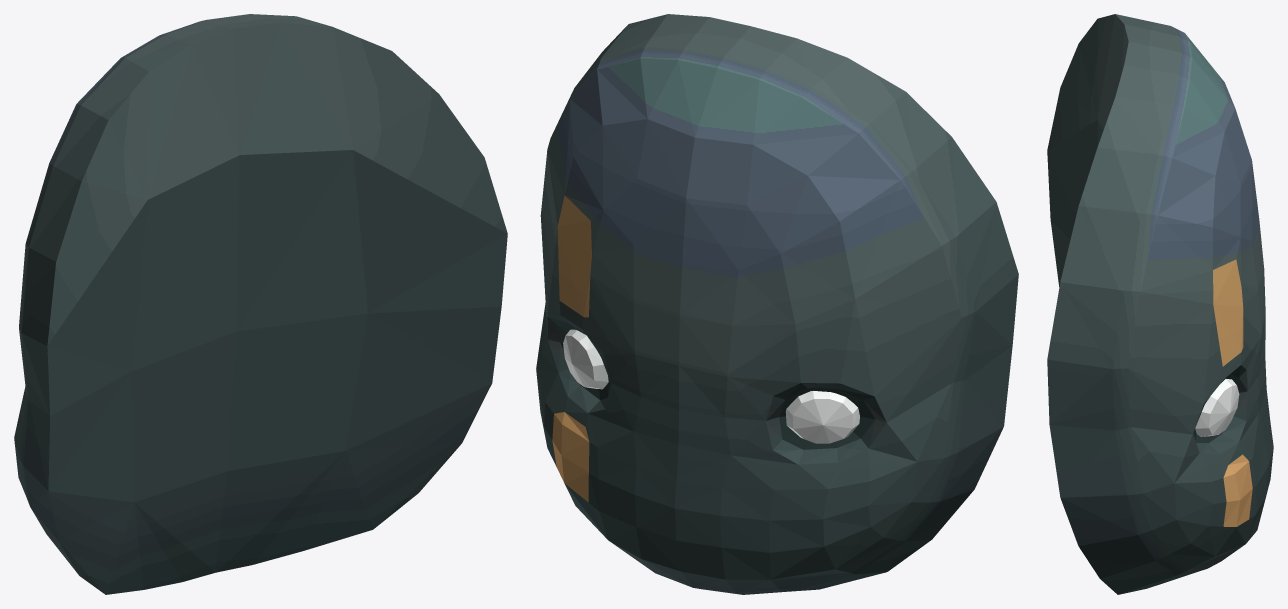
Rendered from CharSkyKid_Mask_AP10MaskD_01.glb.
3 views of the same model, side by side, from view 1: azimuth 30°, elevation 25°; view 2: azimuth 150°, elevation 25°; view 3: azimuth 270°, elevation 25° (orthographic). The views are drawn at different scales.
Parts seen in each view (by area): view 1: CharSkyKid_Mask_AP10MaskD_01; view 2: CharSkyKid_Mask_AP10MaskD_01; view 3: CharSkyKid_Mask_AP10MaskD_01.
Boxes of the visible parts, bbox=[...] form: CharSkyKid_Mask_AP10MaskD_01: bbox=[14, 14, 507, 594]; CharSkyKid_Mask_AP10MaskD_01: bbox=[536, 14, 1018, 594]; CharSkyKid_Mask_AP10MaskD_01: bbox=[1047, 14, 1273, 594].
Size of the model in its own units: 2.16 by 2.49 by 0.9866.
1 material, 1 textured.
